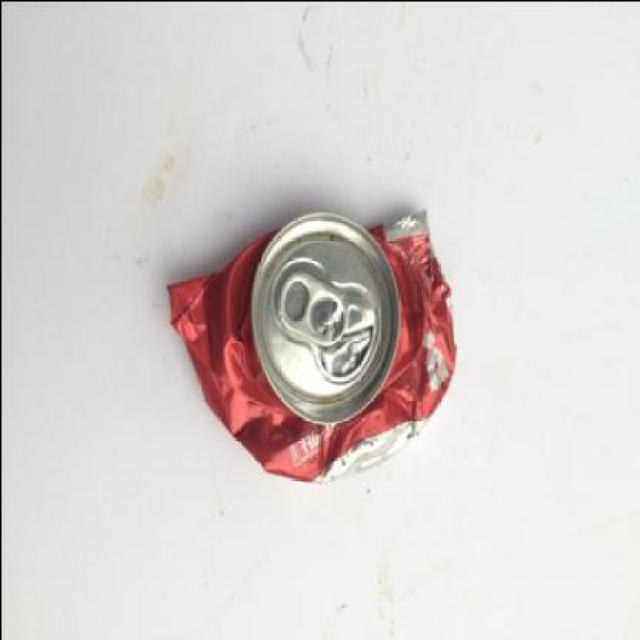METAL: (166, 205, 454, 484)
